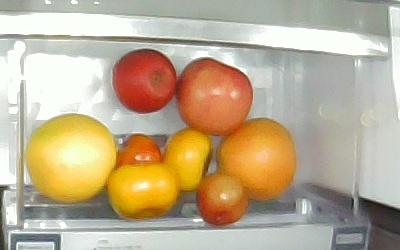apple: (178, 58, 253, 136), (113, 48, 177, 114)
grapefruit: (27, 114, 116, 203), (217, 118, 297, 202)
persimmon: (107, 163, 181, 220), (163, 128, 213, 191)
prune: (197, 173, 248, 225), (117, 134, 163, 164)
